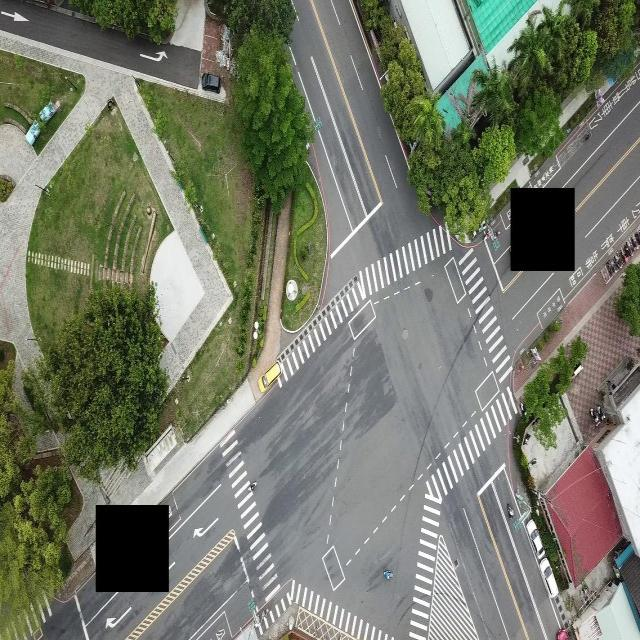bike: (589, 407, 600, 428), (597, 405, 607, 423), (624, 241, 634, 258), (504, 501, 513, 519), (613, 250, 622, 268), (631, 232, 638, 250), (492, 229, 500, 242), (610, 257, 616, 273), (607, 260, 612, 276)
car: (256, 362, 285, 399), (200, 71, 222, 96)
